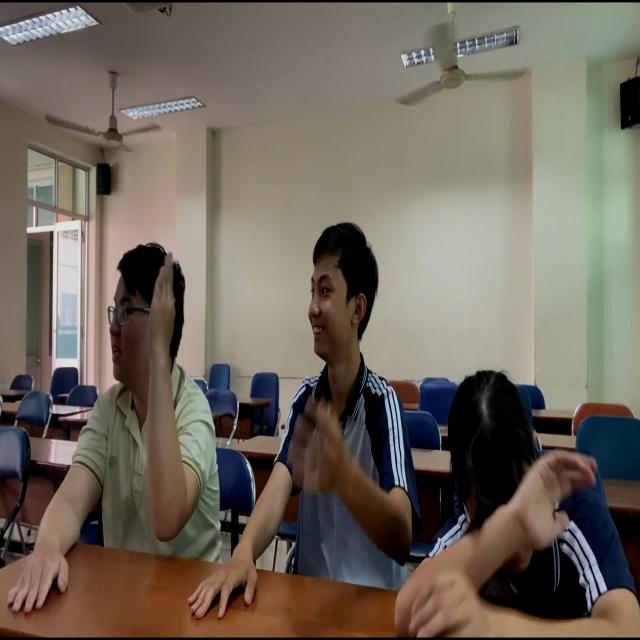raise_hand: (24, 240, 213, 591)
sleep: (403, 364, 635, 640)
